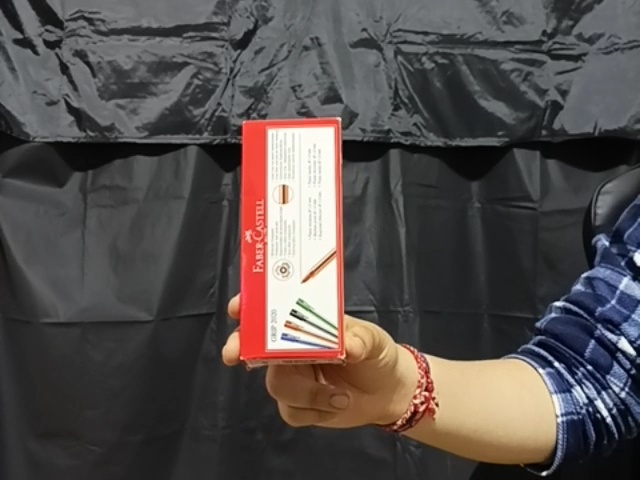xd: (239, 117, 347, 365)
